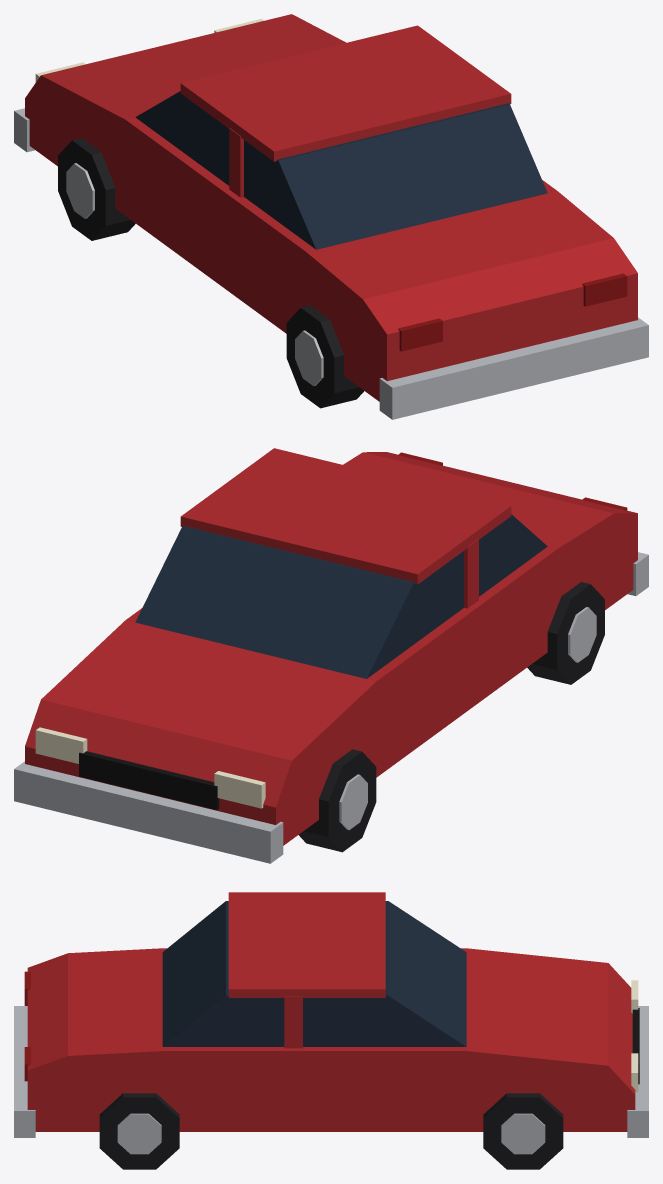
Rendered from CarSedanRedPaint.obj.
3 views of the same model, one above another, from view 1: azimuth 30°, elevation 25°; view 2: azimuth 150°, elevation 25°; view 3: azimuth 270°, elevation 25° (orthographic). The views are drawn at different scales.
Visible parts, largest first — view 1: CarSedanRedPaint; view 2: CarSedanRedPaint; view 3: CarSedanRedPaint.
Part boxes in pixels (x1,y1,x2,y2): CarSedanRedPaint: (14,14,648,419); CarSedanRedPaint: (14,448,648,863); CarSedanRedPaint: (14,892,648,1169).
Bounding box in the file's own units: 1.97 × 1.42 × 4.7.
Materials: 1 (1 with a texture image).
